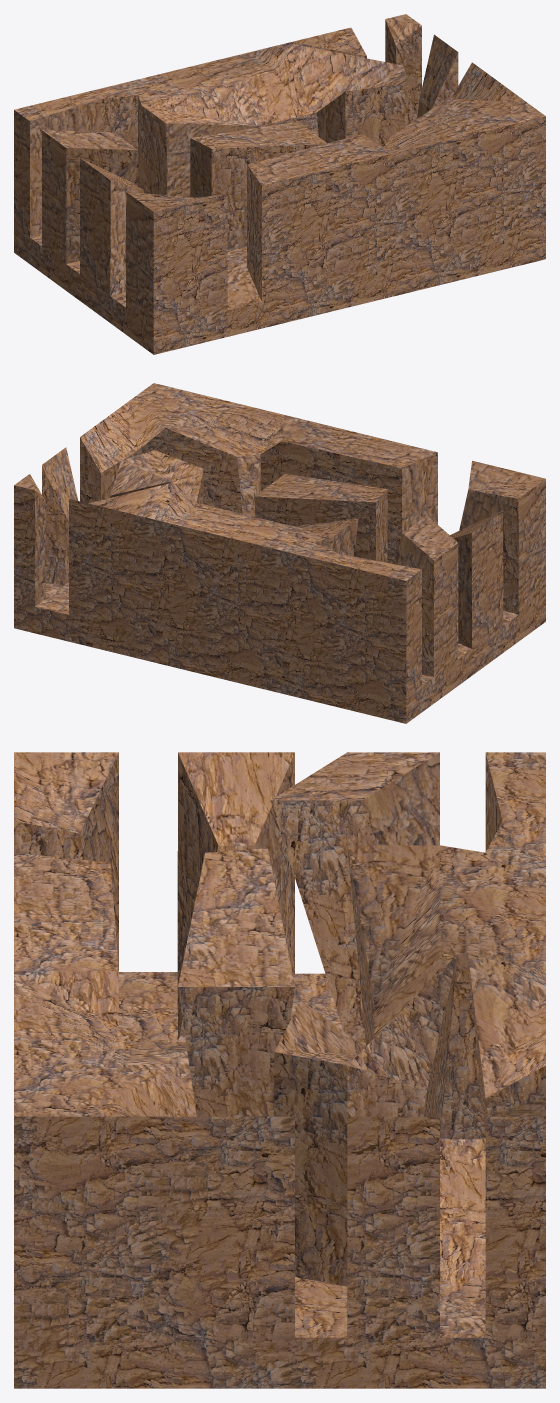
Rendered from Canyon3.fbx.
3 views of the same model, one above another, from view 1: azimuth 30°, elevation 25°; view 2: azimuth 150°, elevation 25°; view 3: azimuth 270°, elevation 25° (orthographic). The views are drawn at different scales.
Visible parts, largest first — view 1: Canyon3; view 2: Canyon3; view 3: Canyon3.
Part boxes in pixels (bbox=[...]): Canyon3: bbox=[14, 14, 545, 354]; Canyon3: bbox=[14, 383, 545, 723]; Canyon3: bbox=[14, 752, 545, 1388].
Size of what is drawn, in the model's own units: 36.06 by 14.27 by 22.24.
